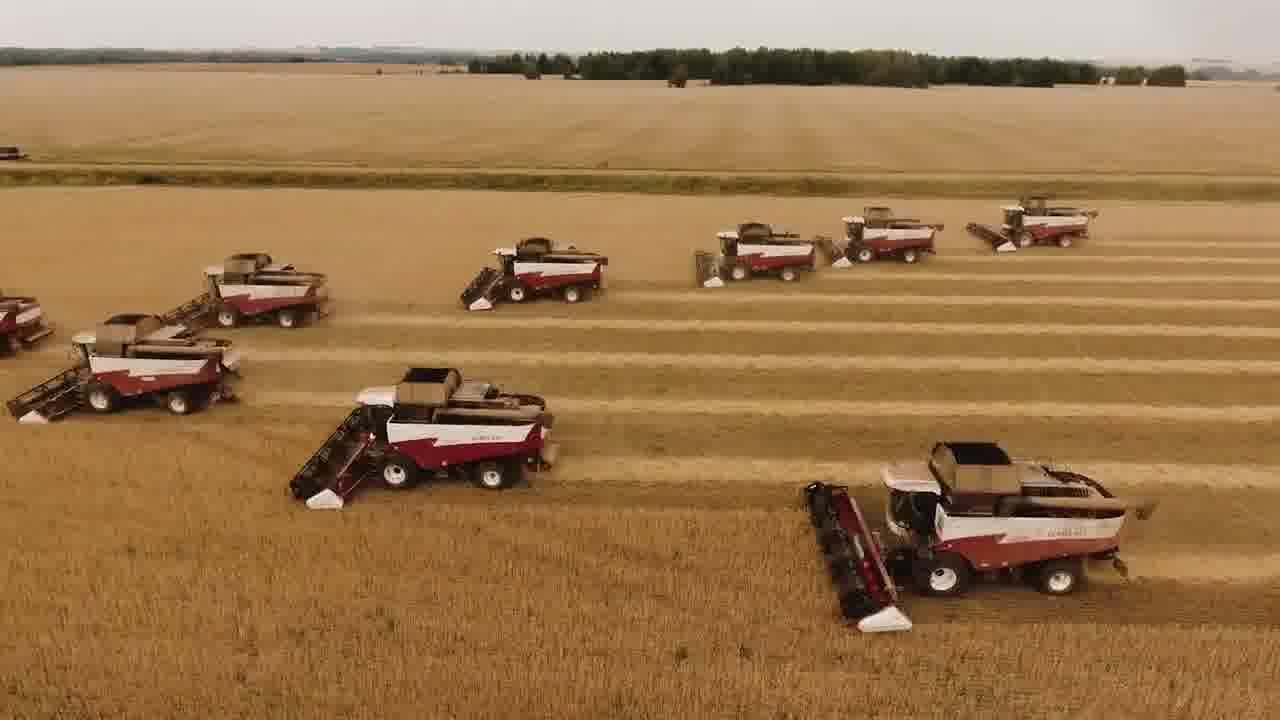combine harvester: (799, 432, 1143, 642), (288, 360, 560, 516), (5, 308, 249, 432), (159, 247, 333, 331), (458, 232, 610, 316), (692, 218, 819, 293), (815, 202, 946, 272), (962, 193, 1100, 258)
